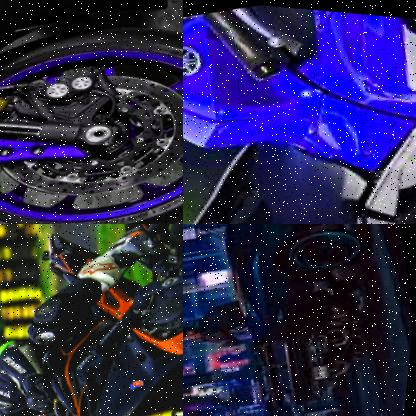bike: (183, 0, 416, 224), (0, 224, 183, 416)
car: (187, 224, 411, 416)
